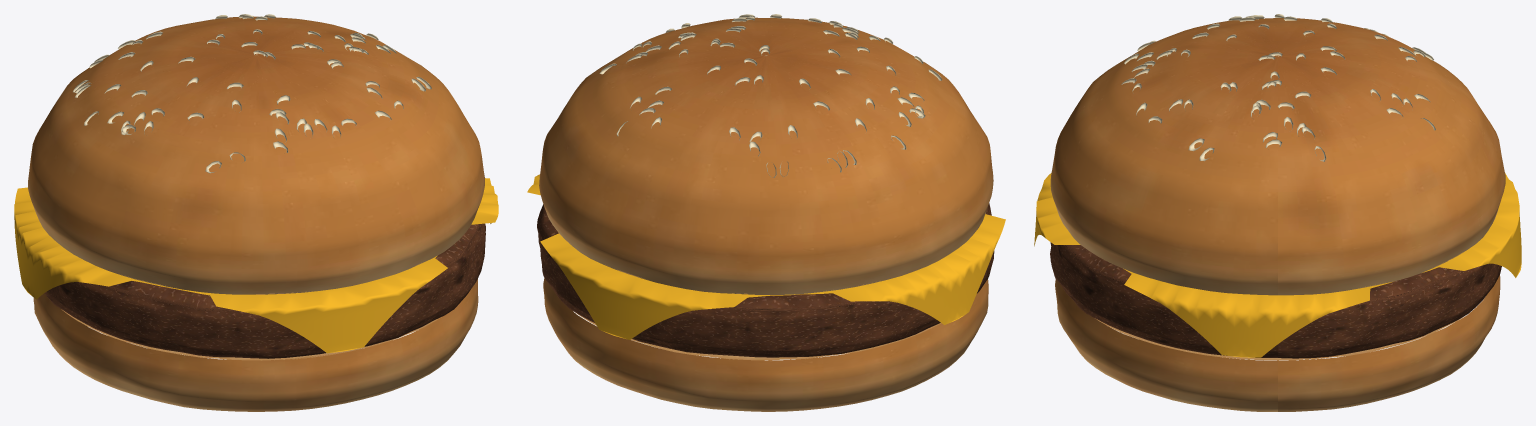
The model's file is burger-x-burger.glb.
The picture shows the model from 3 angles, left to right: view 1: azimuth 30°, elevation 25°; view 2: azimuth 150°, elevation 25°; view 3: azimuth 270°, elevation 25°; orthographic projection.
Visible parts, largest first — view 1: burger-x-burger; view 2: burger-x-burger; view 3: burger-x-burger.
Part boxes in pixels (box(x1,y1,x2,y2)): burger-x-burger: box(14, 14, 498, 411); burger-x-burger: box(527, 14, 1005, 411); burger-x-burger: box(1034, 14, 1521, 411).
Bounding box in the file's own units: 0.1211 × 0.0769 × 0.1211.
Materials: 5 (3 with a texture image).
